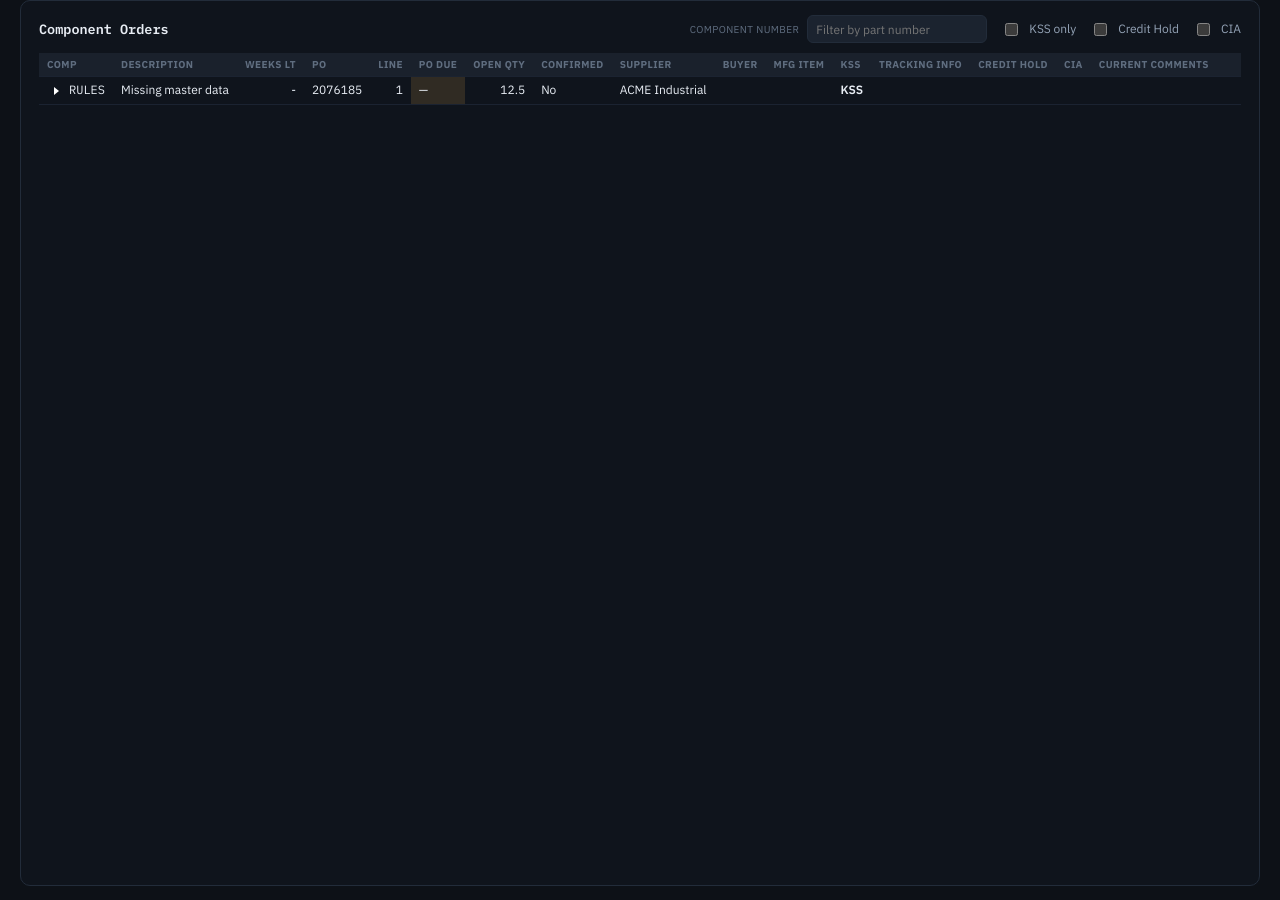
Scenario: ComponentOrdersPanel grouping and display › renders field display rules: Confirmed Yes/No, KSS or blank, Weeks LT "-" for null/zero and ceil otherwise, Missing master data, raw open quantity
Expected: the text "Missing master data" is shown, left=113, top=76, right=237, bottom=104
Expected: the text "No" is shown, left=533, top=76, right=612, bottom=104
# Expand and check the child row's ceil weeks LT (8 days → 2) and blank KSS.
Click the button named "Expand RULES" at (56,91), box left=47, top=82, right=65, bottom=100
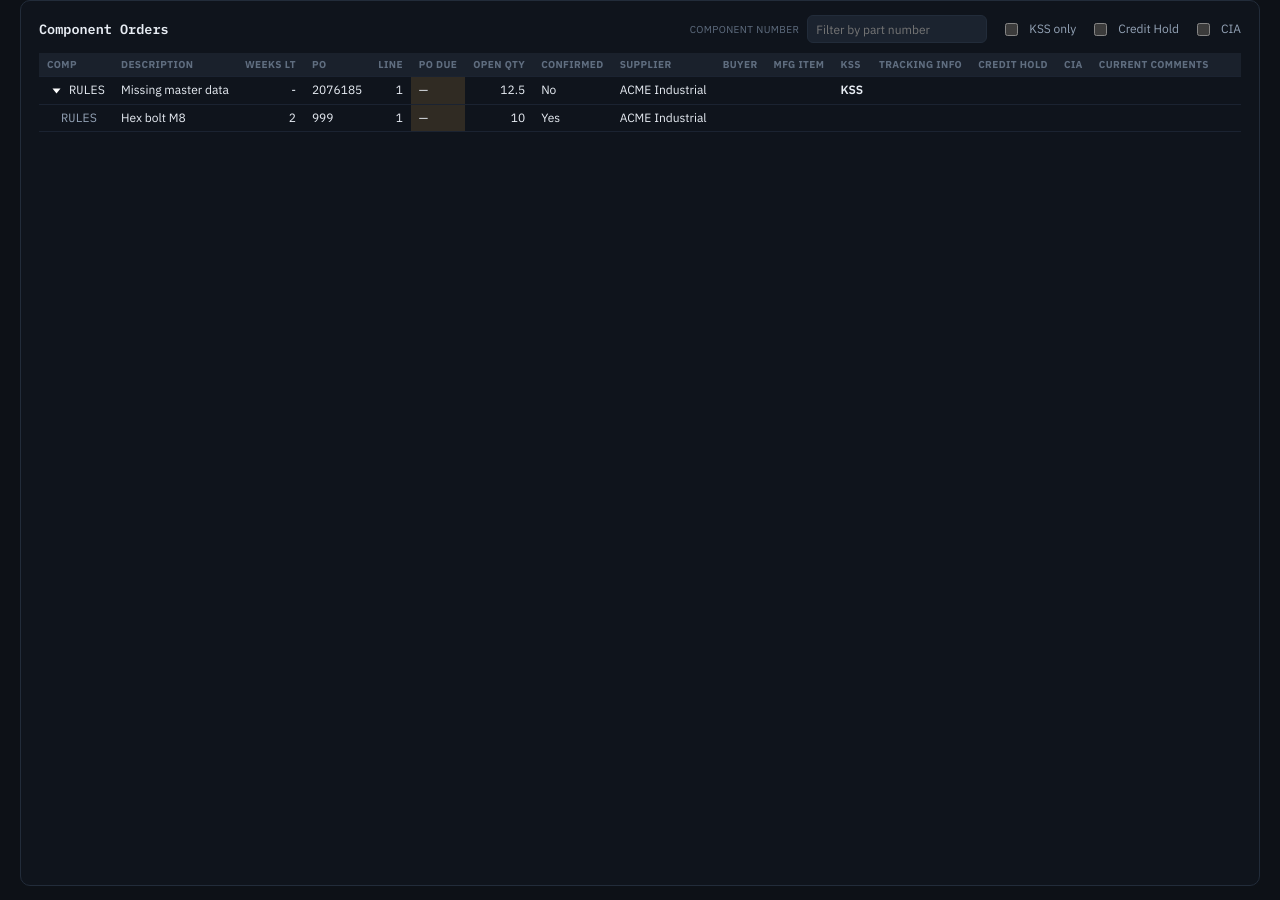
Result: the cell "2" is shown at left=237, top=104, right=304, bottom=131
